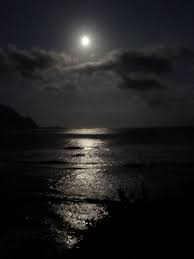moon: (79, 33, 93, 48)
